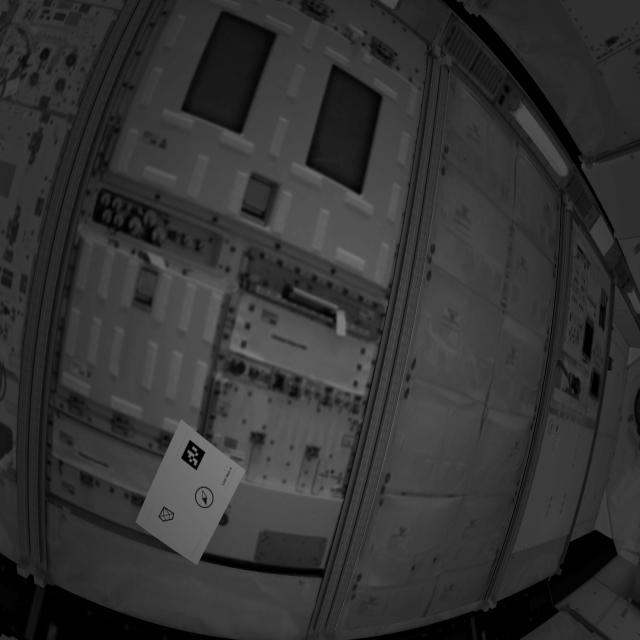compass: (194, 485, 217, 514)
diamond: (160, 503, 177, 526)
